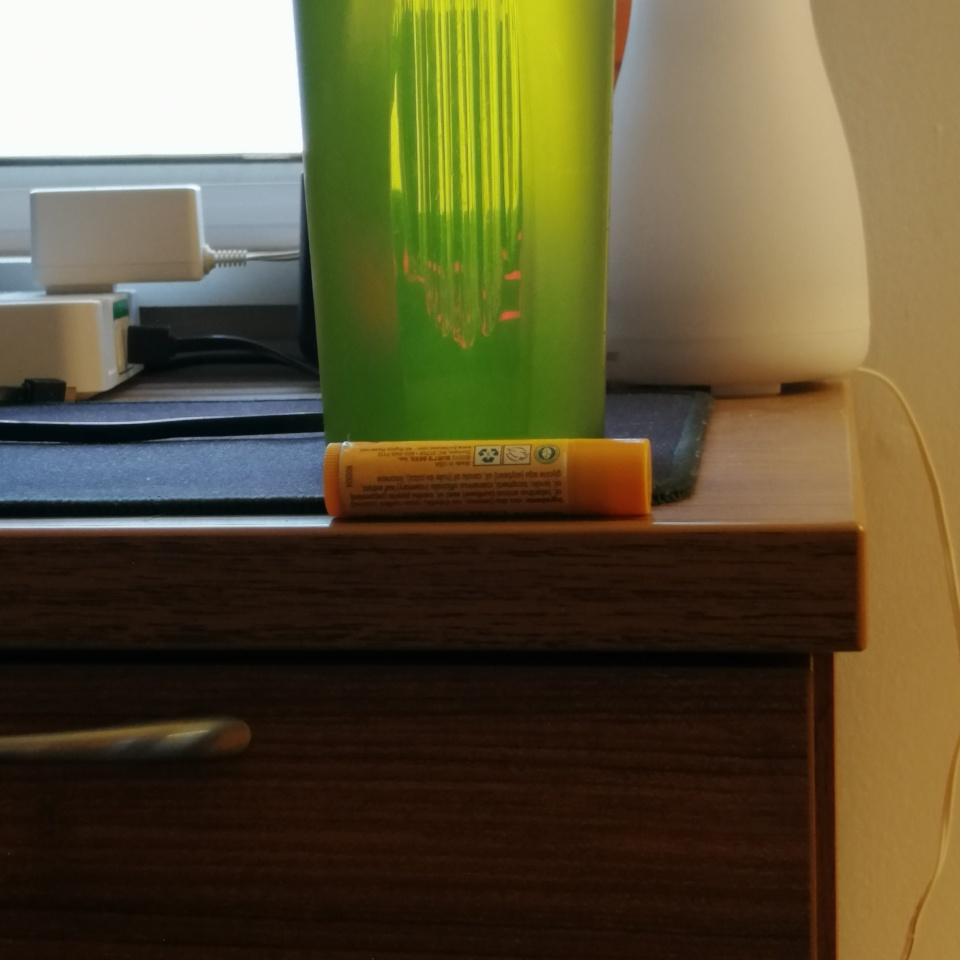chapstick: (322, 437, 653, 519)
